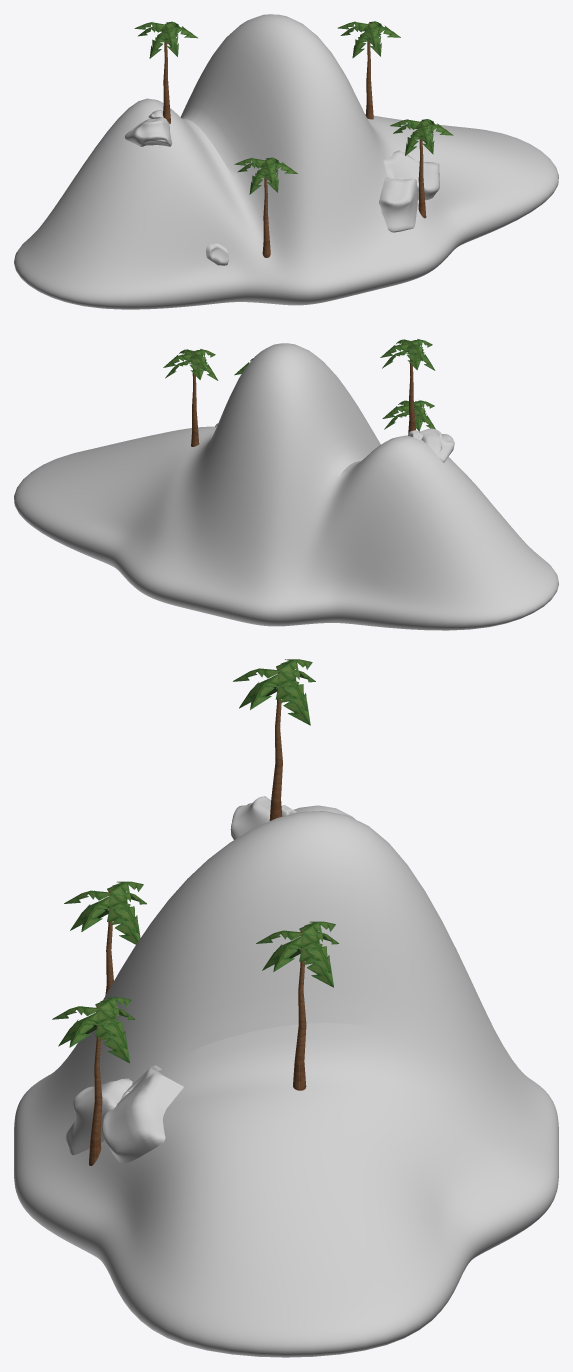
The model's file is medium island.fbx.
The picture shows the model from 3 angles, top to bottom: view 1: azimuth 30°, elevation 25°; view 2: azimuth 150°, elevation 25°; view 3: azimuth 270°, elevation 25°; orthographic projection. The views are drawn at different scales.
Visible parts, largest first — view 1: Croisant shape island, Medium rock.030, Medium rock.029, Trunk.012, Trunk.011, Trunk.013, Trunk.010, Medium rock.031, Medium rock.035; view 2: Croisant shape island, Trunk.013, Trunk.011, Trunk.012, Medium rock.031; view 3: Croisant shape island, Medium rock.029, Trunk.013, Trunk.010, Trunk.011, Trunk.012, Medium rock.030, Medium rock.031.
Boxes of the visible parts, x1,y1,x2,y2 form: Croisant shape island: (14,14,558,309); Medium rock.030: (378,177,417,232); Medium rock.029: (383,150,439,200); Trunk.012: (234,157,297,257); Trunk.011: (134,21,197,123); Trunk.013: (337,21,400,119); Trunk.010: (390,119,453,218); Medium rock.031: (124,117,172,146); Medium rock.035: (206,243,228,265); Croisant shape island: (14,343,558,630); Trunk.013: (163,349,218,446); Trunk.011: (380,339,435,433); Trunk.012: (382,400,435,431); Medium rock.031: (419,428,454,462); Croisant shape island: (14,805,558,1357); Medium rock.029: (101,1065,183,1163); Trunk.013: (256,921,338,1090); Trunk.010: (52,997,135,1165); Trunk.011: (233,659,315,820); Trunk.012: (64,881,146,995); Medium rock.030: (65,1078,132,1155); Medium rock.031: (230,796,270,839).
Size of the model in its own units: 3091 by 1539 by 1707.
